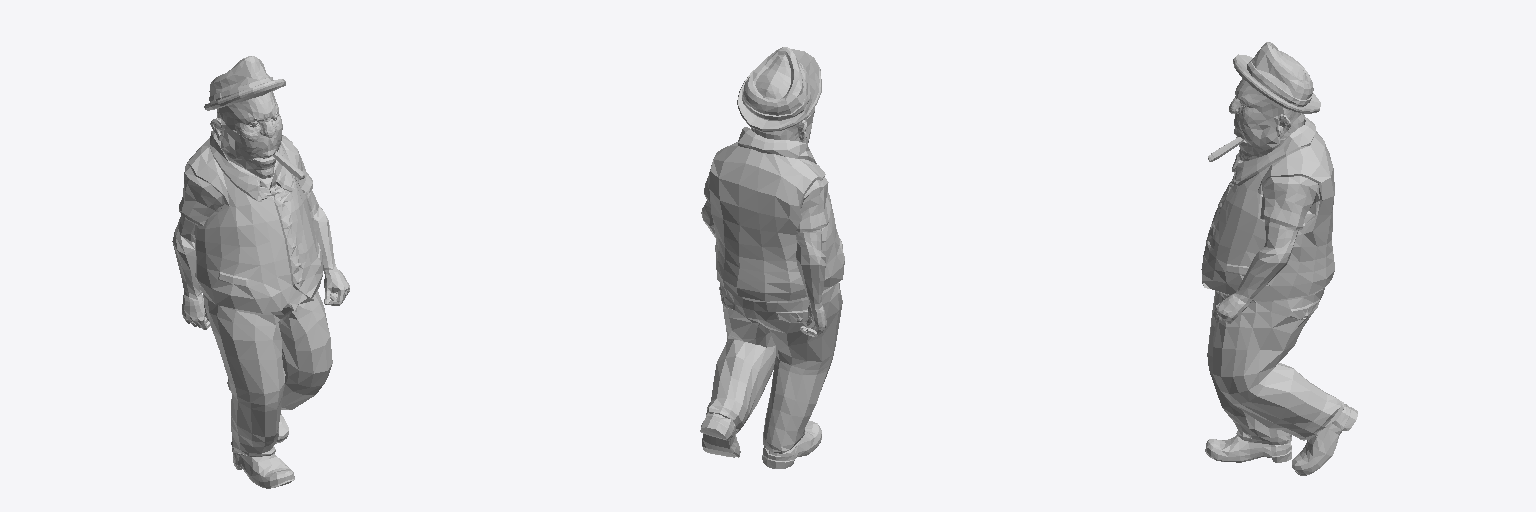
Rendered from walk0031.obj.
3 renders of one model, left to right at view 1: azimuth 30°, elevation 25°; view 2: azimuth 150°, elevation 25°; view 3: azimuth 270°, elevation 25°, orthographic.
Visible parts, largest first — view 1: mixamorig:Jacket_Geo, mixamorig:Pants_Geo, mixamorig:Head_Geo, mixamorig:Arms_Geo, mixamorig:Hat_Geo, mixamorig:Shoes_Geo; view 2: mixamorig:Jacket_Geo, mixamorig:Pants_Geo, mixamorig:Hat_Geo, mixamorig:Arms_Geo, mixamorig:Shoes_Geo, mixamorig:Head_Geo; view 3: mixamorig:Jacket_Geo, mixamorig:Pants_Geo, mixamorig:Hat_Geo, mixamorig:Head_Geo, mixamorig:Shoes_Geo, mixamorig:Arms_Geo.
Part boxes in pixels (bbox=[...]): mixamorig:Jacket_Geo: bbox=[179, 130, 322, 313]; mixamorig:Pants_Geo: bbox=[203, 290, 332, 456]; mixamorig:Head_Geo: bbox=[210, 91, 282, 188]; mixamorig:Arms_Geo: bbox=[172, 190, 349, 329]; mixamorig:Hat_Geo: bbox=[204, 56, 285, 110]; mixamorig:Shoes_Geo: bbox=[227, 379, 294, 488]; mixamorig:Jacket_Geo: bbox=[704, 127, 844, 301]; mixamorig:Pants_Geo: bbox=[706, 282, 842, 453]; mixamorig:Hat_Geo: bbox=[737, 47, 821, 131]; mixamorig:Arms_Geo: bbox=[701, 200, 826, 336]; mixamorig:Shoes_Geo: bbox=[700, 413, 821, 468]; mixamorig:Head_Geo: bbox=[751, 108, 814, 144]; mixamorig:Jacket_Geo: bbox=[1201, 117, 1334, 301]; mixamorig:Pants_Geo: bbox=[1207, 288, 1343, 444]; mixamorig:Hat_Geo: bbox=[1233, 42, 1320, 113]; mixamorig:Head_Geo: bbox=[1229, 78, 1304, 161]; mixamorig:Shoes_Geo: bbox=[1205, 404, 1357, 475]; mixamorig:Arms_Geo: bbox=[1213, 220, 1298, 323].
Bounding box in the file's own units: 0.678 × 1.97 × 0.6768.